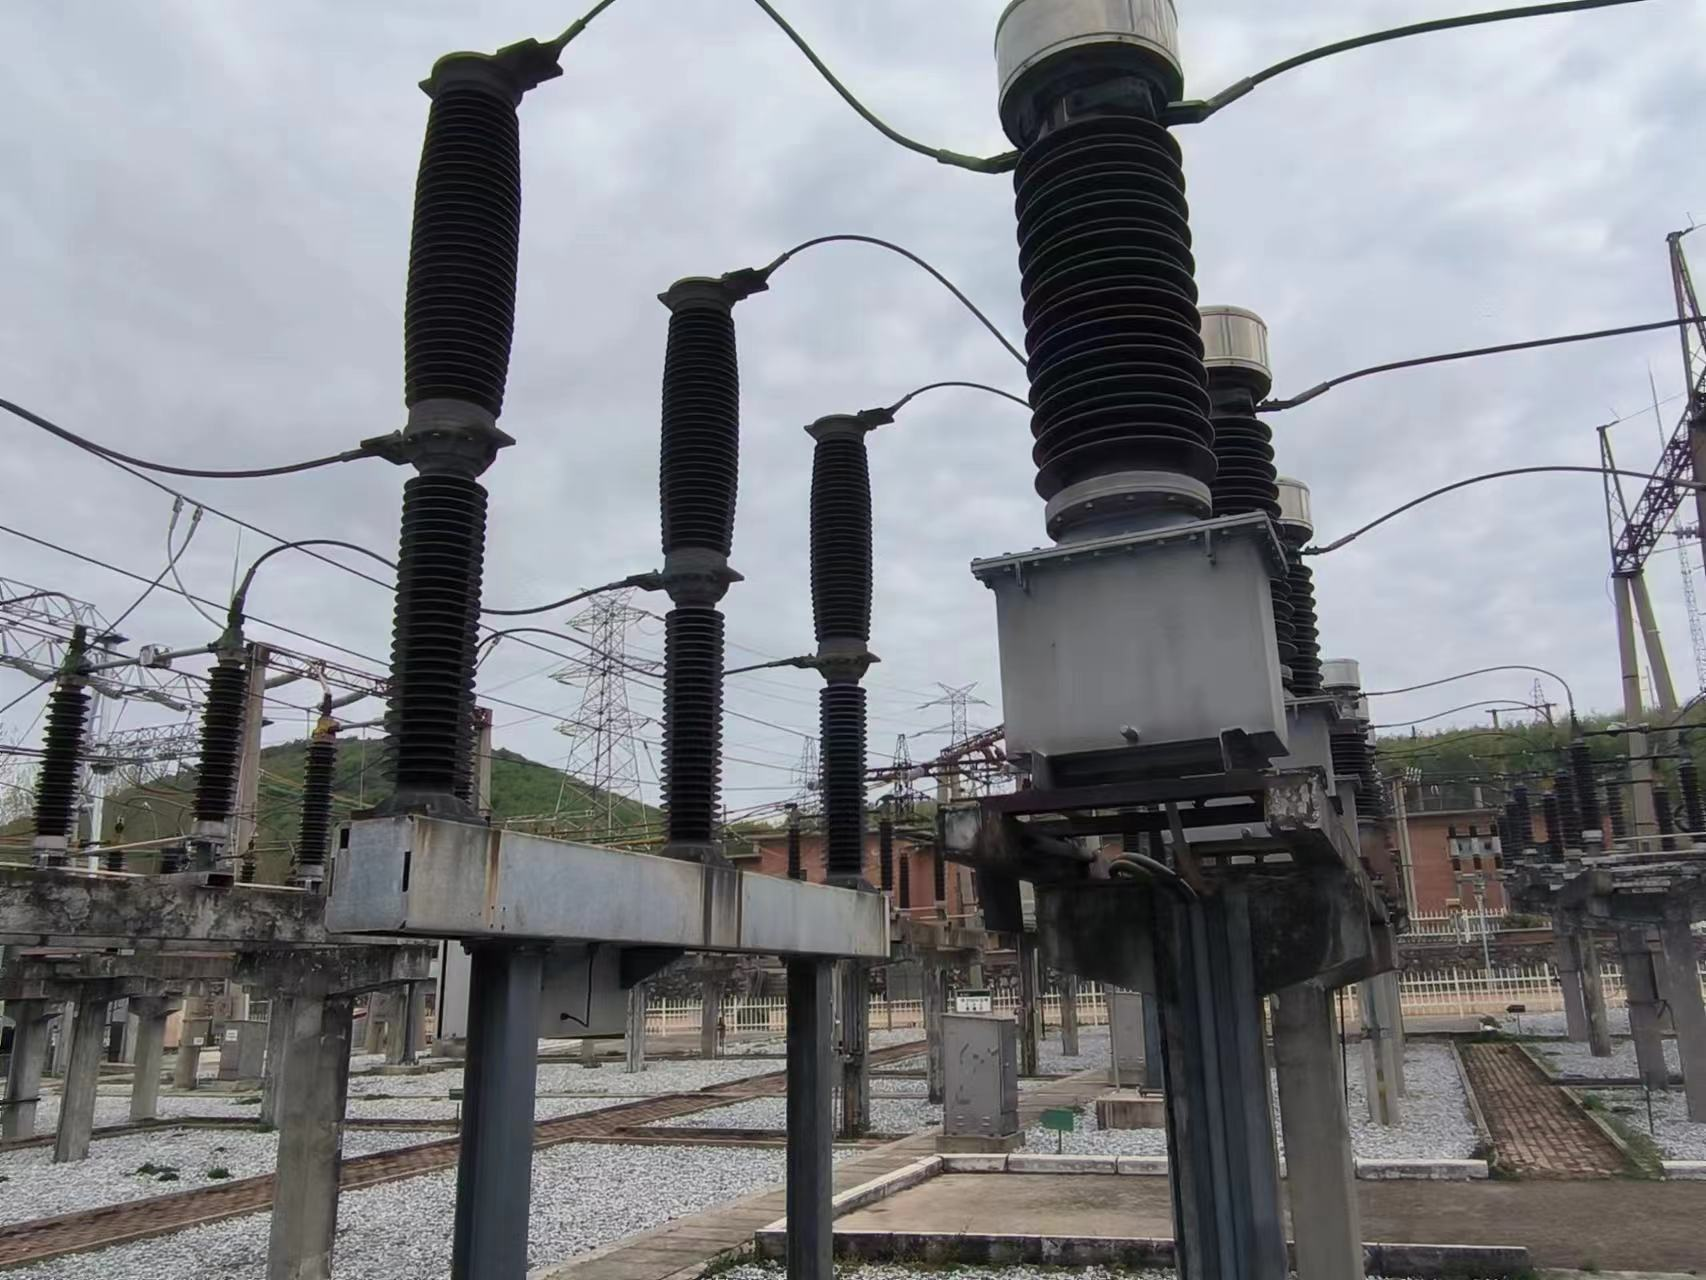Circuit-breaker: (376, 42, 565, 822), (644, 262, 778, 856), (795, 411, 899, 879)
Current transformer: (967, 1, 1284, 754)
